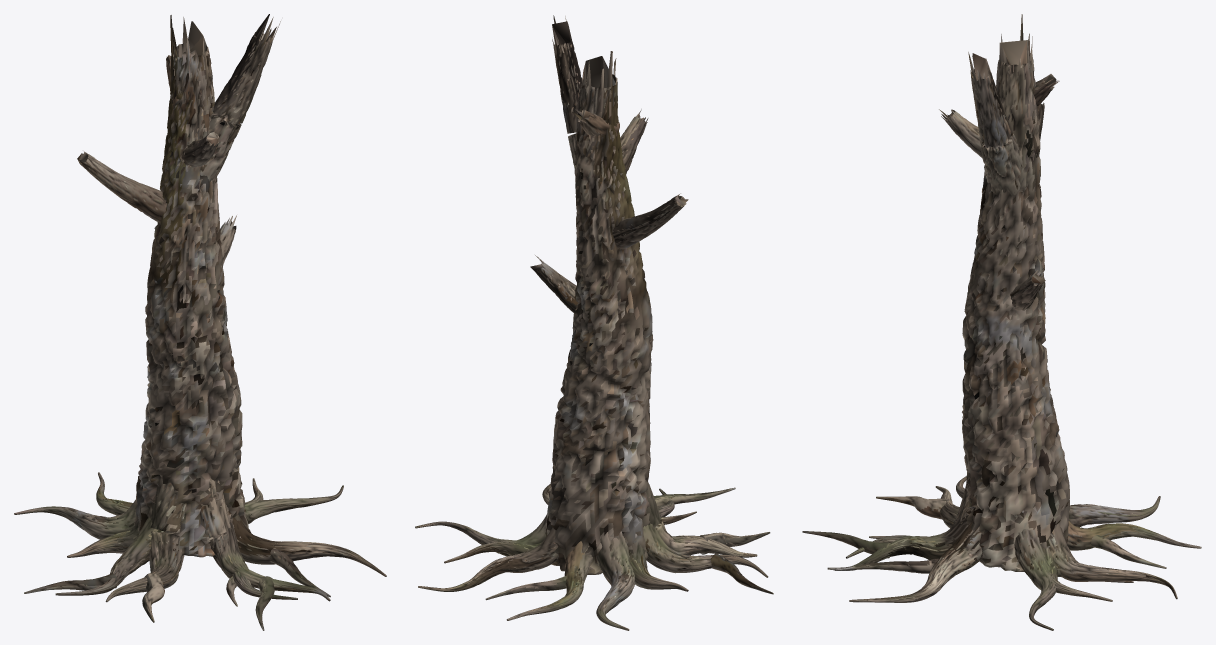
File: dead-snag-photo-v02.glb
3 views of the same model, side by side, from view 1: azimuth 30°, elevation 25°; view 2: azimuth 150°, elevation 25°; view 3: azimuth 270°, elevation 25° (orthographic). The views are drawn at different scales.
Parts seen in each view (by area): view 1: Dead snag | broken trunk, splintered top, limb stubs; view 2: Dead snag | broken trunk, splintered top, limb stubs; view 3: Dead snag | broken trunk, splintered top, limb stubs.
Boxes of the visible parts, x1,y1,x2,y2 form: Dead snag | broken trunk, splintered top, limb stubs: [14, 14, 386, 630]; Dead snag | broken trunk, splintered top, limb stubs: [415, 15, 773, 630]; Dead snag | broken trunk, splintered top, limb stubs: [802, 14, 1201, 630].
Size of the model in its own units: 4.06 by 6.08 by 4.09.
Materials: 1 (1 with a texture image).
